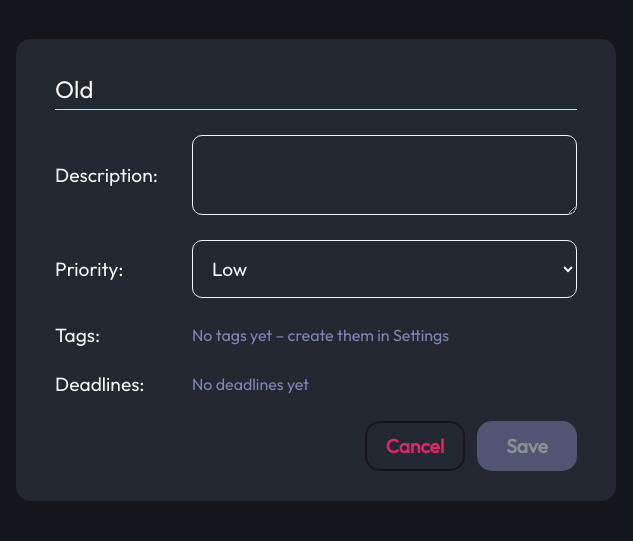
Test: MutateTaskForm › shows a conflict from another device and stays open
In the field named "title": coordinates (316, 90) [55,69,577,110], type "!"
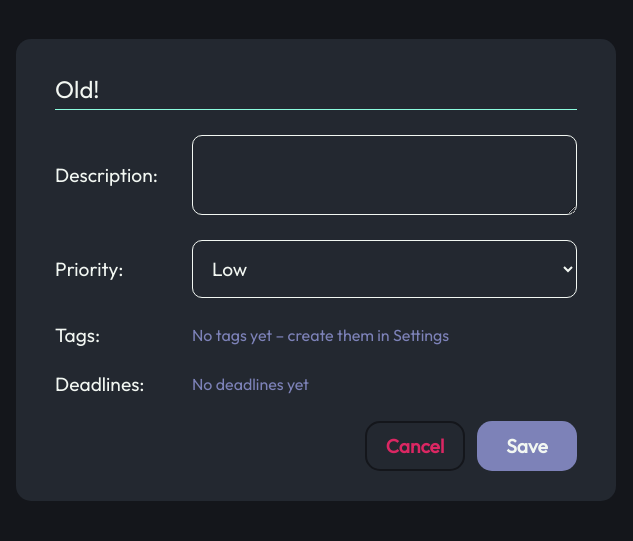
Click the button "Save": coordinates (527, 446) [477,421,577,471]
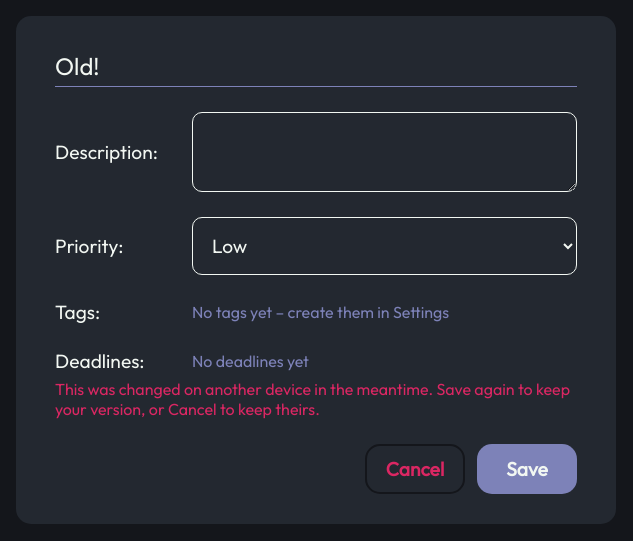
Now the text "This was changed on another device in the meantime. Save again to keep your version, or Cancel to keep theirs." is shown, box [55,379,570,419]
